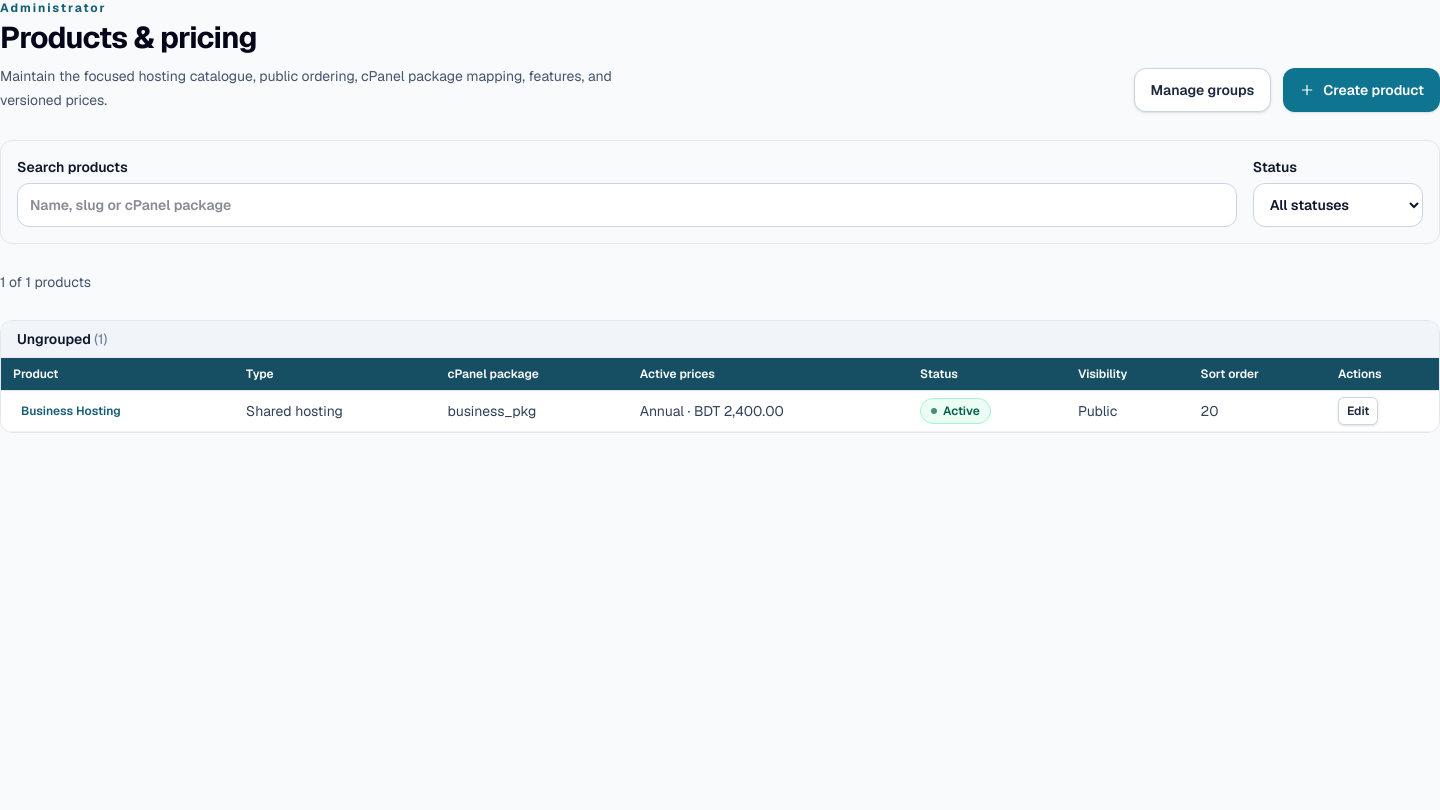
Test: product and pricing interfaces › loads the administrator catalogue with provisioning and pricing controls
This screenshot has width=1440, height=810.
Step 1. Click the button "Business Hosting" → [71, 411], box x1=13 y1=397 x2=129 y2=425
(page scrolled)
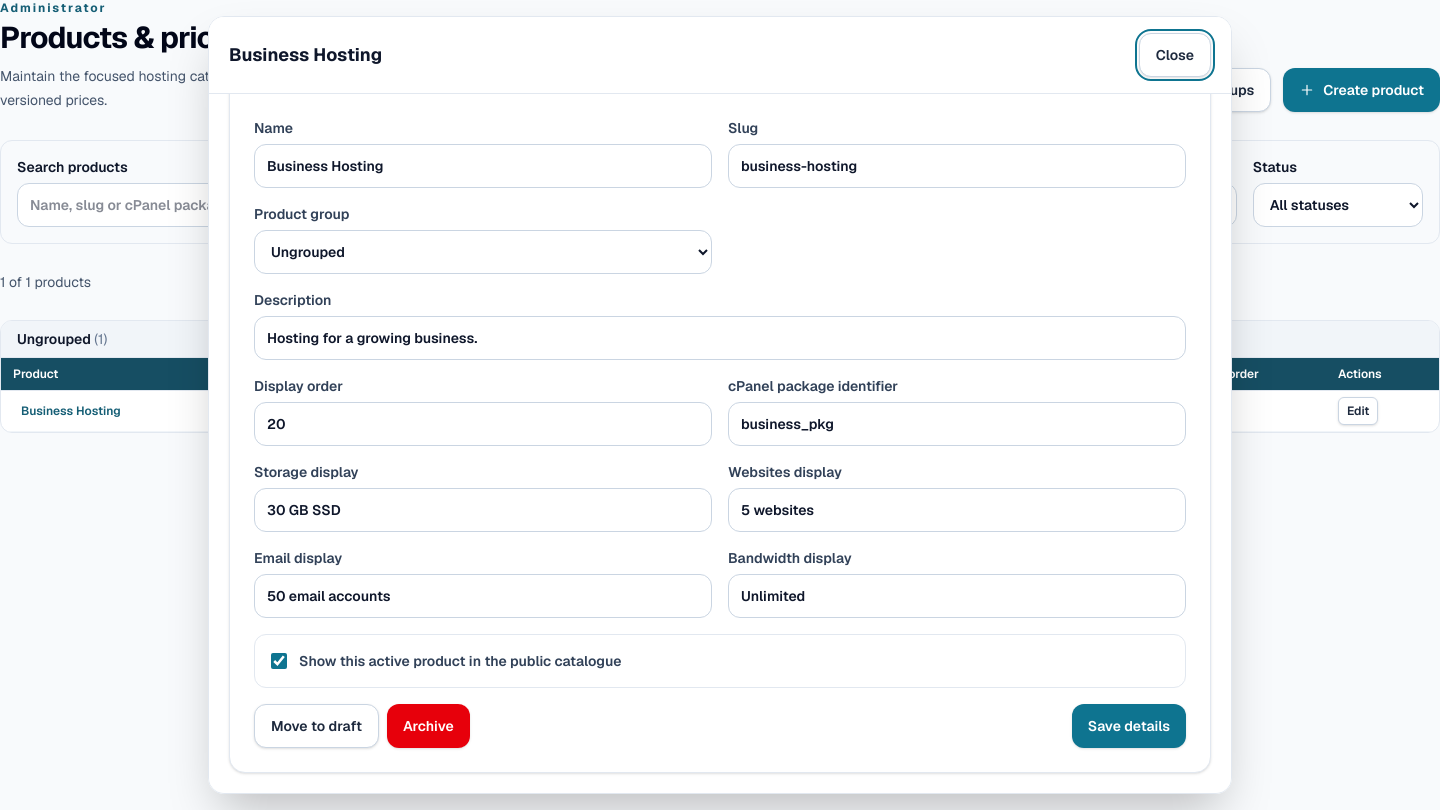
Expected: the field showing "business_pkg" is shown, x1=728 y1=402 x2=1186 y2=446
Expected: the field showing "30 GB SSD" is shown, x1=254 y1=488 x2=712 y2=532
Expected: the button "Move to draft" is shown, x1=254 y1=704 x2=379 y2=748
